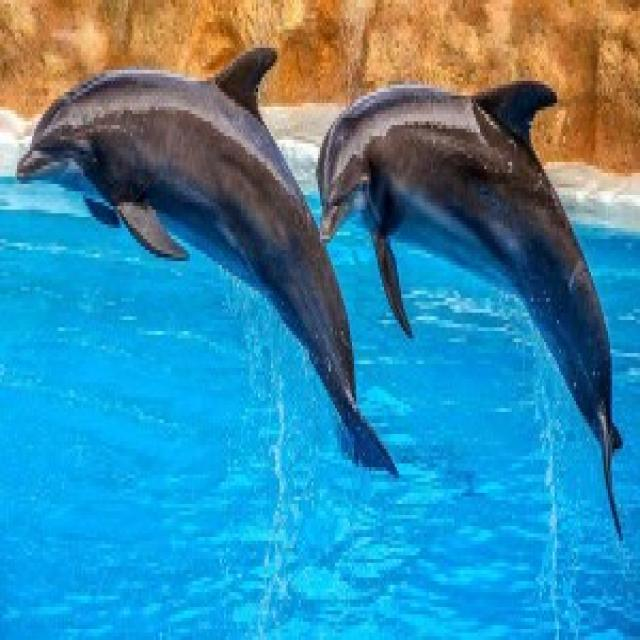Dolphin: (0, 40, 384, 493), (321, 53, 640, 517)
